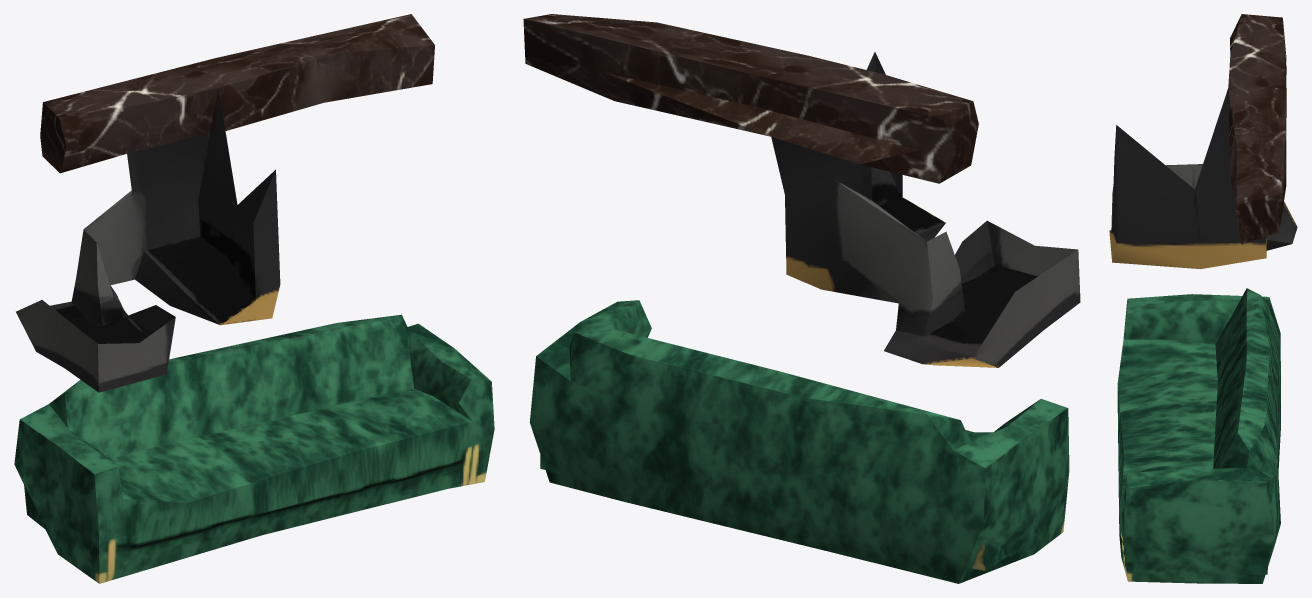
Rendered from penthouse-velvet-sofa.glb.
The picture shows the model from 3 angles, left to right: view 1: azimuth 30°, elevation 25°; view 2: azimuth 150°, elevation 25°; view 3: azimuth 270°, elevation 25°; orthographic projection. The views are drawn at different scales.
Visible parts, largest first — view 1: geometry_0; view 2: geometry_0; view 3: geometry_0.
Part boxes in pixels (x1,y1,x2,y2): geometry_0: (14, 14, 494, 583); geometry_0: (523, 14, 1080, 583); geometry_0: (1109, 14, 1297, 583).
Bounding box in the file's own units: 1 × 0.9849 × 0.4167.
Materials: 1 (1 with a texture image).
